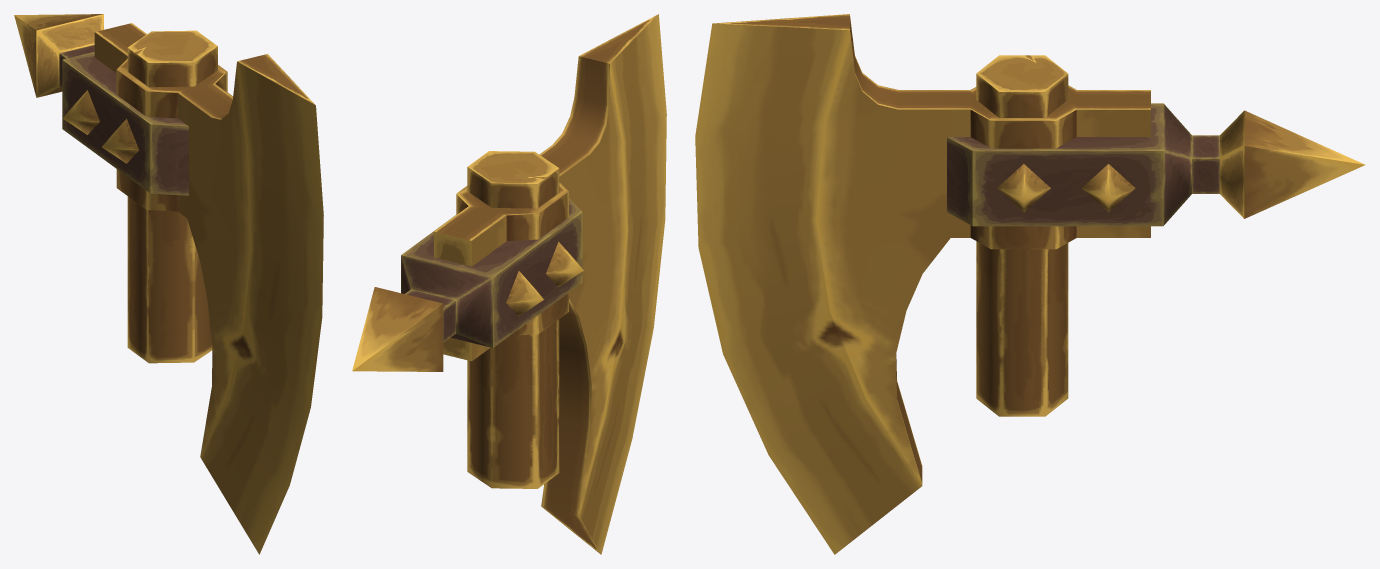
Rendered from SM_WEP_head_axe_battle_02.fbx.
3 renders of one model, left to right at view 1: azimuth 30°, elevation 25°; view 2: azimuth 150°, elevation 25°; view 3: azimuth 270°, elevation 25°, orthographic. The views are drawn at different scales.
Parts seen in each view (by area): view 1: SM_WEP_head_axe_battle_02; view 2: SM_WEP_head_axe_battle_02; view 3: SM_WEP_head_axe_battle_02.
Part boxes in pixels (<box>): SM_WEP_head_axe_battle_02: <box>14,14,323,554</box>; SM_WEP_head_axe_battle_02: <box>352,14,666,554</box>; SM_WEP_head_axe_battle_02: <box>695,14,1365,554</box>.
Bounding box in the file's own units: 15.86 × 53.05 × 60.5.
